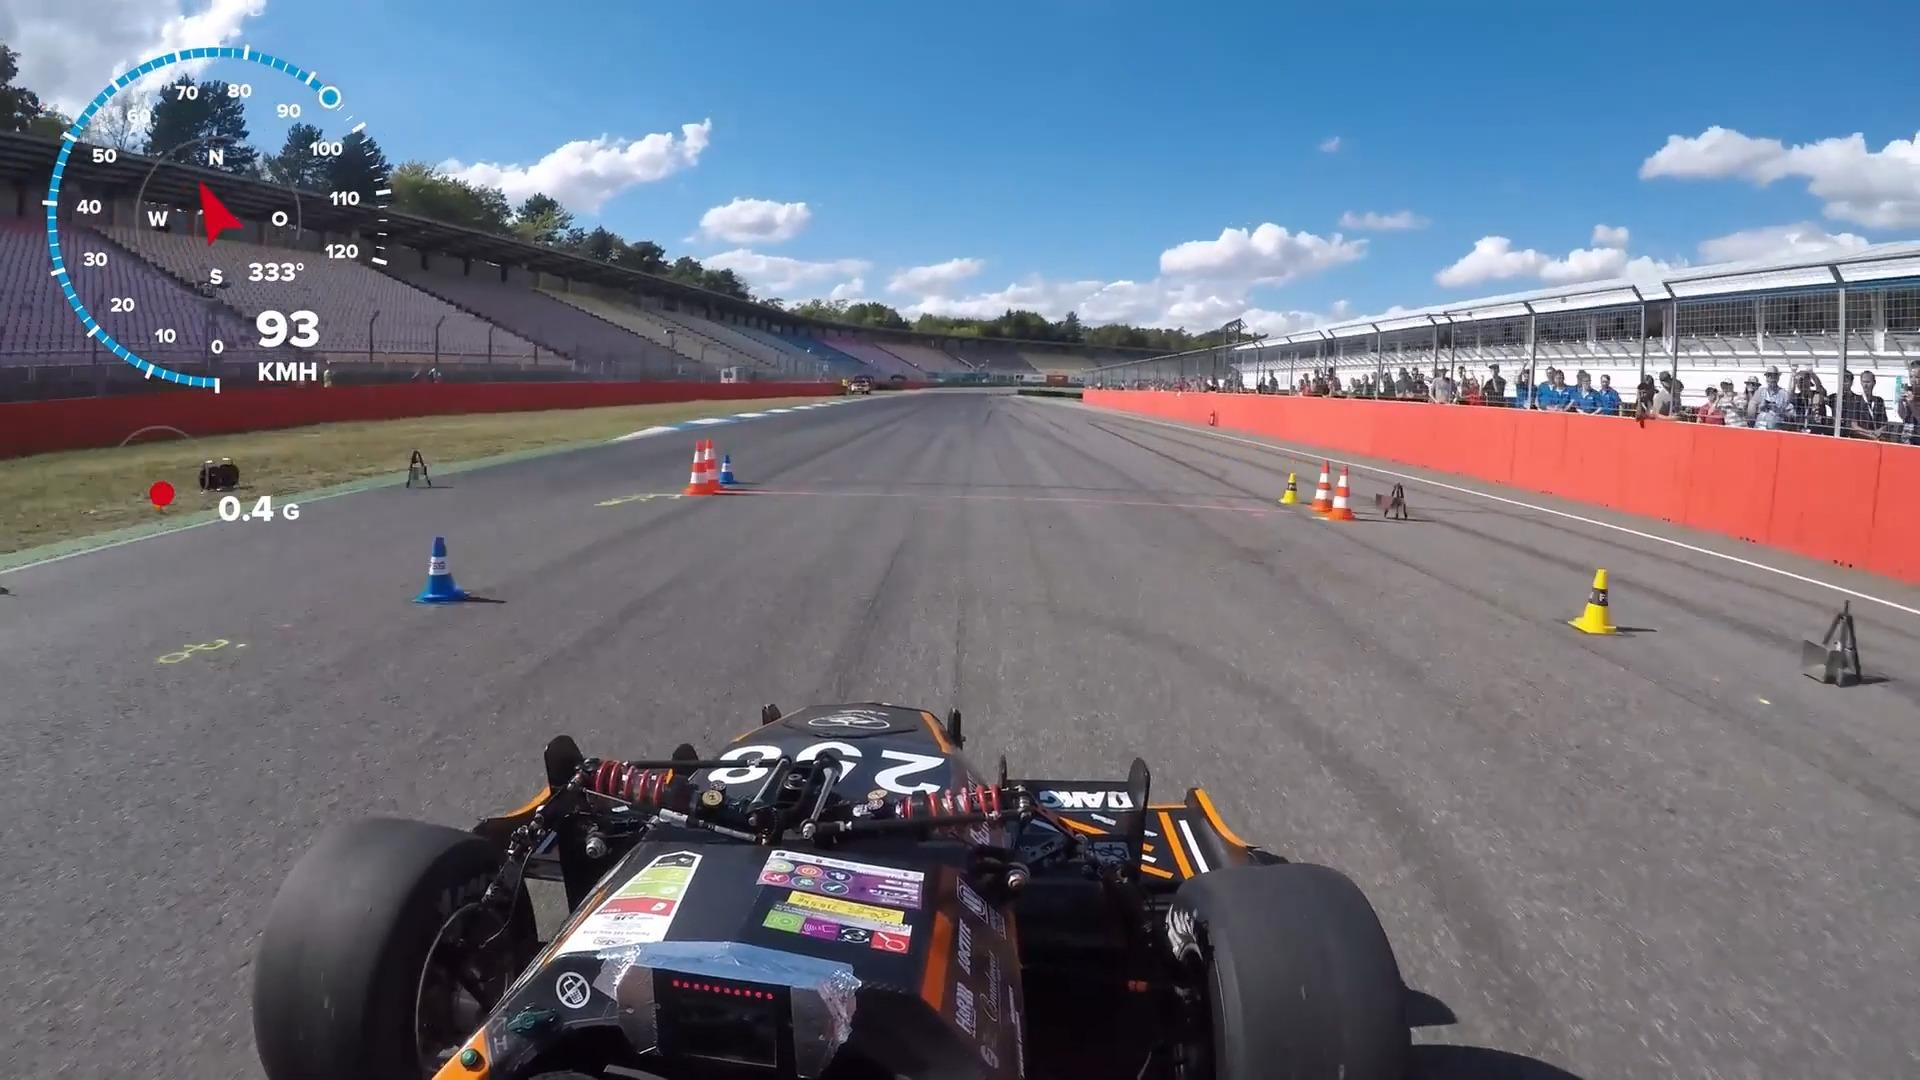blue_cone: (394, 516, 460, 608)
large_orange_cone: (655, 425, 736, 487), (1295, 452, 1361, 526)
yellow_cone: (1575, 558, 1652, 640)
